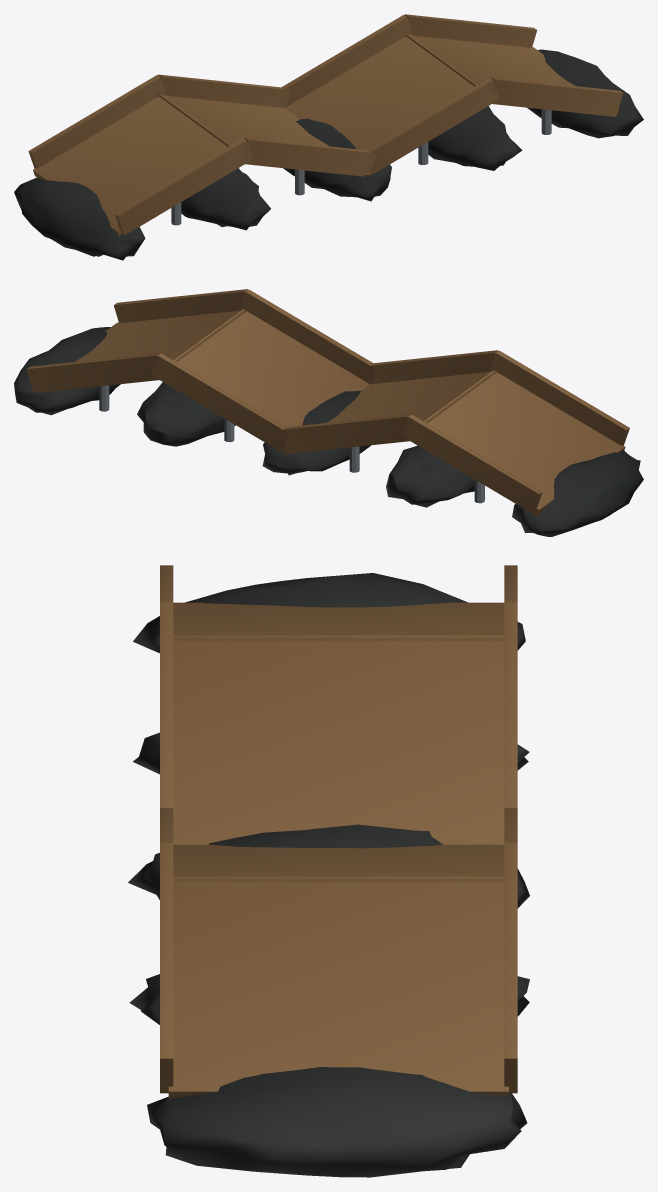
Rendered from ramp.glb.
3 views of the same model, one above another, from view 1: azimuth 30°, elevation 25°; view 2: azimuth 150°, elevation 25°; view 3: azimuth 270°, elevation 25° (orthographic). The views are drawn at different scales.
Visible parts, largest first — view 1: Cube.003, Cube.009, Icosphere.073, Cube.012, Cube.006, Icosphere.077, Cube.004, Icosphere.076, Cube.010, Icosphere.074, Cube.007, Cube.013 (+5 smaller); view 2: Cube.003, Cube.009, Icosphere.073, Cube.012, Cube.006, Cube.005, Cube.011, Icosphere.076, Icosphere.074, Icosphere.077, Cube.014, Cube.004 (+5 smaller); view 3: Cube.012, Cube.006, Icosphere.077, Cube.003, Cube.009, Icosphere.073, Icosphere.075, Cube.013, Cube.014, Cube.007, Cube.008, Icosphere.076 (+1 smaller).
Boxes of the visible parts, left/top/right/bottom form: Cube.003: left=33, top=94, right=246, bottom=237; Cube.009: left=285, top=34, right=493, bottom=172; Icosphere.073: left=14, top=177, right=145, bottom=260; Cube.012: left=406, top=35, right=618, bottom=116; Cube.006: left=159, top=95, right=364, bottom=176; Icosphere.077: left=527, top=49, right=643, bottom=138; Cube.004: left=114, top=138, right=252, bottom=235; Icosphere.076: left=428, top=106, right=522, bottom=170; Cube.010: left=367, top=78, right=499, bottom=174; Icosphere.074: left=181, top=168, right=270, bottom=230; Cube.007: left=241, top=137, right=376, bottom=175; Cube.013: left=491, top=77, right=623, bottom=115; Cube.003: left=408, top=370, right=625, bottom=515; Cube.009: left=157, top=309, right=369, bottom=454; Icosphere.073: left=512, top=450, right=643, bottom=536; Cube.012: left=31, top=310, right=246, bottom=393; Cube.006: left=283, top=371, right=497, bottom=454; Cube.005: left=402, top=414, right=542, bottom=513; Cube.011: left=151, top=353, right=288, bottom=451; Icosphere.076: left=137, top=382, right=235, bottom=446; Icosphere.074: left=386, top=445, right=474, bottom=507; Icosphere.077: left=14, top=327, right=120, bottom=415; Cube.014: left=26, top=353, right=160, bottom=391; Cube.004: left=489, top=350, right=629, bottom=445; Cube.012: left=168, top=876, right=508, bottom=1098; Cube.006: left=173, top=635, right=504, bottom=844; Icosphere.077: left=147, top=1067, right=527, bottom=1177; Cube.003: left=173, top=602, right=504, bottom=641; Cube.009: left=173, top=844, right=504, bottom=882; Icosphere.073: left=133, top=573, right=525, bottom=653; Icosphere.075: left=128, top=824, right=529, bottom=908; Cube.013: left=160, top=843, right=173, bottom=1093; Cube.014: left=504, top=843, right=517, bottom=1093; Cube.007: left=160, top=602, right=173, bottom=807; Cube.008: left=504, top=602, right=517, bottom=807; Icosphere.076: left=129, top=974, right=529, bottom=1024.
Size of the model in its own units: 33.71 by 5.58 by 10.17.
